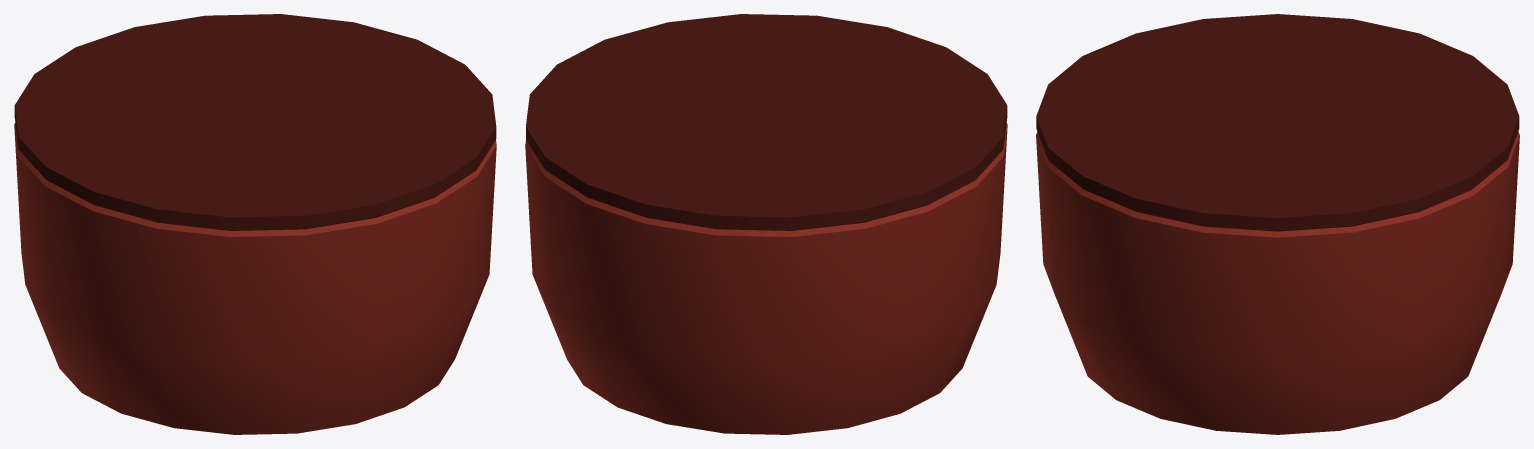
The model's file is Food Jar 2.fbx.
The picture shows the model from 3 angles, left to right: view 1: azimuth 30°, elevation 25°; view 2: azimuth 150°, elevation 25°; view 3: azimuth 270°, elevation 25°; orthographic projection.
Parts seen in each view (by area): view 1: pasted__pCylinder103; view 2: pasted__pCylinder103; view 3: pasted__pCylinder103.
Part boxes in pixels (bbox=[...]): pasted__pCylinder103: bbox=[14, 14, 496, 434]; pasted__pCylinder103: bbox=[525, 14, 1007, 434]; pasted__pCylinder103: bbox=[1036, 14, 1519, 434].
Size of the model in its own units: 0.9381 by 0.5013 by 0.9381.
